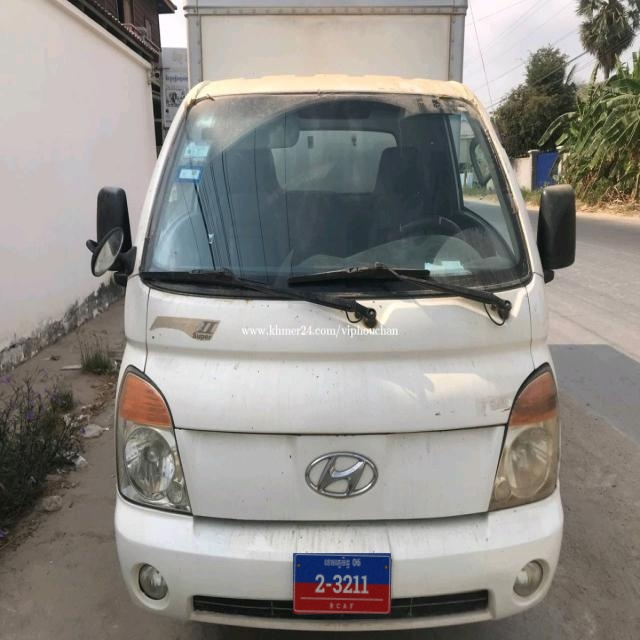Plate Number: (294, 554, 392, 614)
